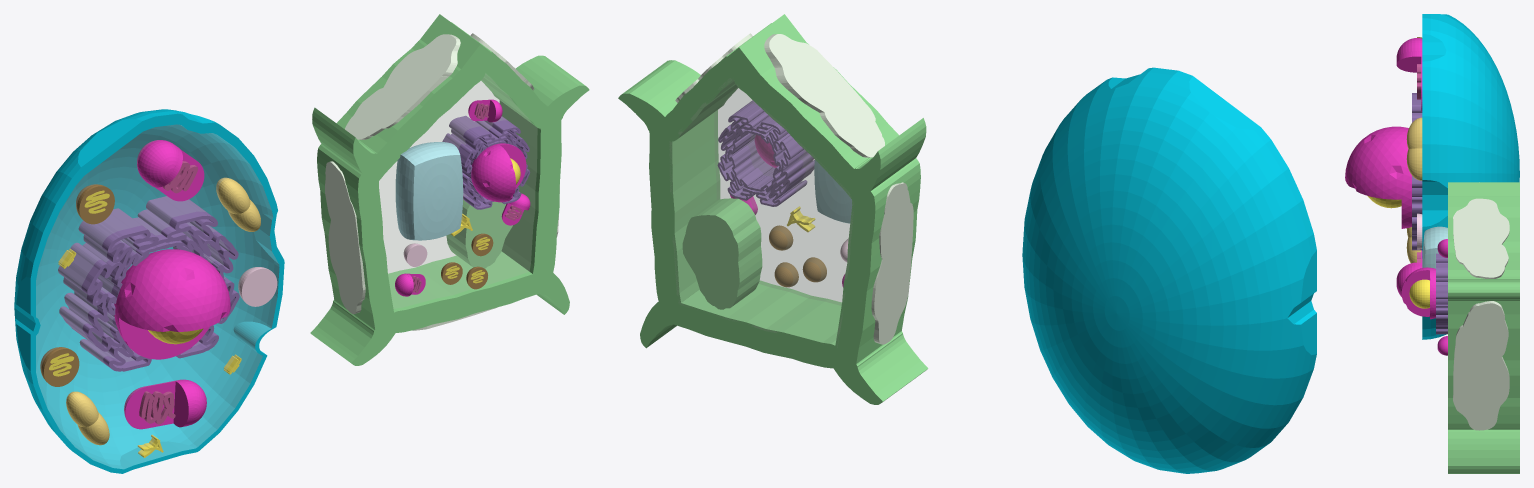
Rendered from celula2.glb.
3 renders of one model, left to right at view 1: azimuth 30°, elevation 25°; view 2: azimuth 150°, elevation 25°; view 3: azimuth 270°, elevation 25°, orthographic. The views are drawn at different scales.
Visible parts, largest first — view 1: obj_1, obj_0, obj_14, obj_4, obj_15, obj_3, obj_16, obj_35, obj_34, obj_7, obj_17, obj_8 (+9 smaller); view 2: obj_1, obj_14, obj_15, obj_20, obj_17, obj_35, obj_34, obj_16; view 3: obj_1, obj_14, obj_32, obj_3, obj_33, obj_8, obj_19, obj_17, obj_10, obj_4, obj_16, obj_18 (+4 smaller).
Boxes of the visible parts, <box> form: obj_1: <box>14,109,284,473</box>; obj_0: <box>36,124,278,468</box>; obj_14: <box>310,14,589,365</box>; obj_4: <box>58,196,239,371</box>; obj_15: <box>379,74,537,308</box>; obj_3: <box>114,249,230,359</box>; obj_16: <box>395,142,463,240</box>; obj_35: <box>345,34,460,139</box>; obj_34: <box>325,161,365,314</box>; obj_7: <box>124,379,206,429</box>; obj_17: <box>442,115,530,209</box>; obj_8: <box>137,140,204,201</box>; obj_1: <box>1022,67,1316,473</box>; obj_14: <box>618,14,928,404</box>; obj_15: <box>670,78,852,347</box>; obj_20: <box>682,198,762,309</box>; obj_17: <box>717,100,814,206</box>; obj_35: <box>764,34,884,157</box>; obj_34: <box>871,182,913,344</box>; obj_16: <box>814,159,852,223</box>; obj_1: <box>1422,14,1519,339</box>; obj_14: <box>1448,182,1519,473</box>; obj_32: <box>1453,301,1509,430</box>; obj_3: <box>1345,126,1411,228</box>; obj_33: <box>1453,198,1509,278</box>; obj_8: <box>1396,38,1422,111</box>; obj_19: <box>1401,267,1435,319</box>; obj_17: <box>1436,253,1447,334</box>; obj_10: <box>1406,117,1422,180</box>; obj_4: <box>1412,93,1422,250</box>; obj_16: <box>1422,226,1447,268</box>; obj_18: <box>1409,279,1429,308</box>.
Bounding box in the file's own units: 113 × 65.8 × 34.
